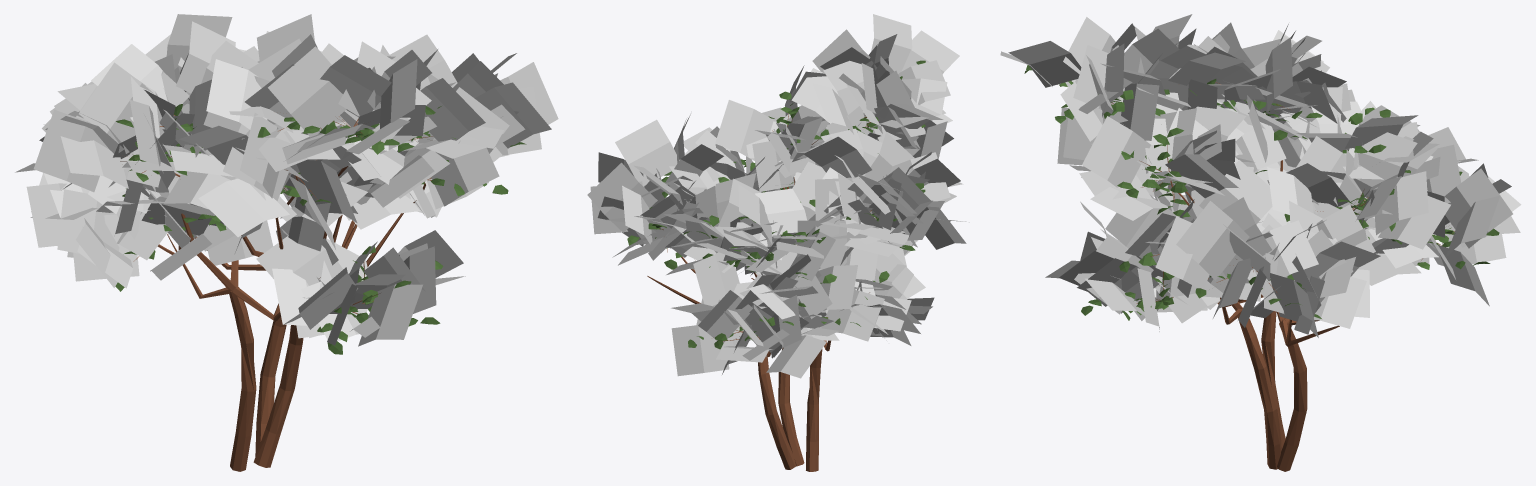
File: Arbousier_Ancien_LOD1.fbx
3 renders of one model, left to right at view 1: azimuth 30°, elevation 25°; view 2: azimuth 150°, elevation 25°; view 3: azimuth 270°, elevation 25°, orthographic. The views are drawn at different scales.
Parts seen in each view (by area): view 1: Arbousier_Ancien_LOD1; view 2: Arbousier_Ancien_LOD1; view 3: Arbousier_Ancien_LOD1.
Part boxes in pixels (x1,y1,x2,y2): Arbousier_Ancien_LOD1: [15, 14, 558, 471]; Arbousier_Ancien_LOD1: [587, 14, 969, 471]; Arbousier_Ancien_LOD1: [1000, 14, 1521, 471].
Size of the model in its own units: 498 by 468 by 502.
